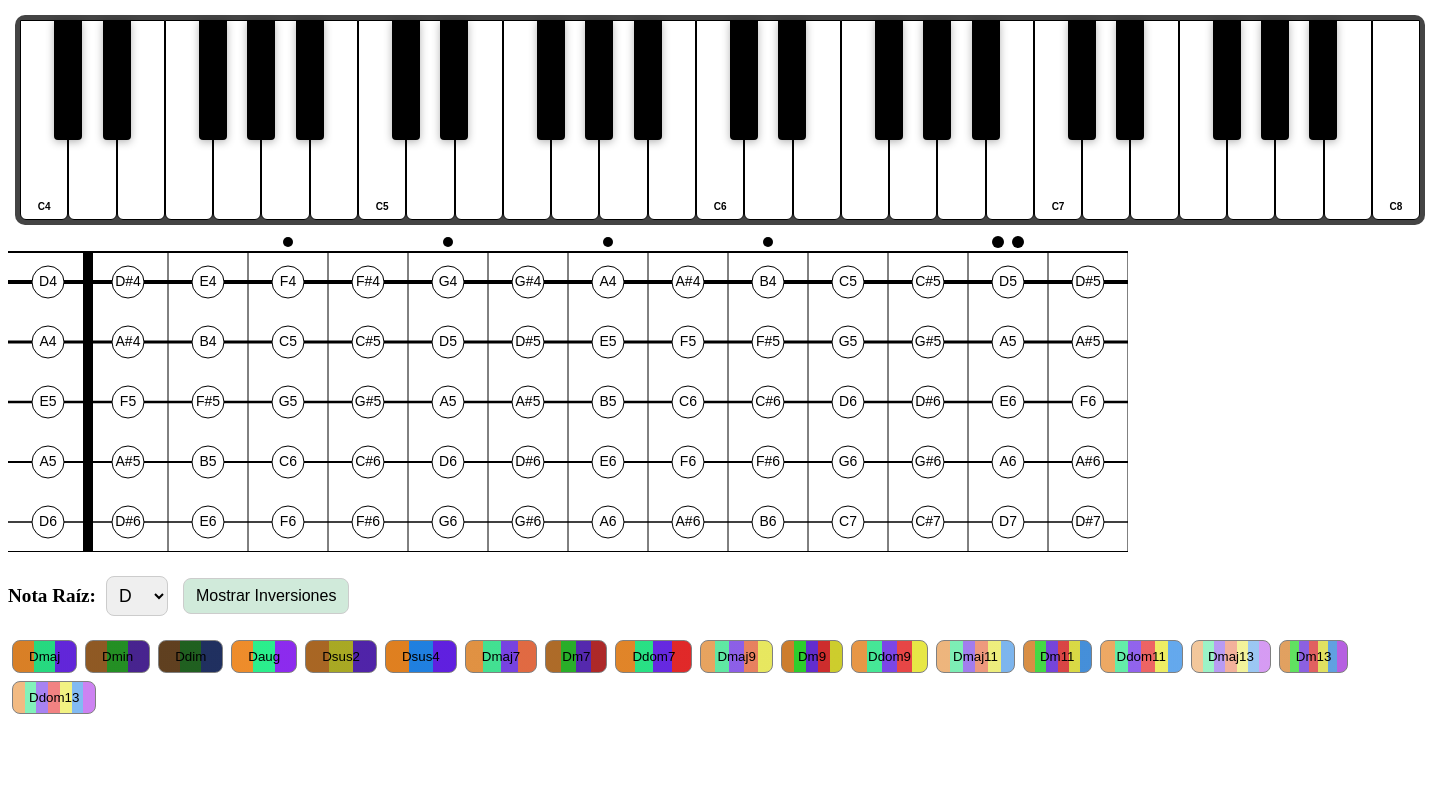
it: App Integration Tests › Chord Selection and Interaction › displays the selected chord name and applies the selected class to the button on click
Click the button "Dmaj" at point(45, 656), box [12,640,77,673]
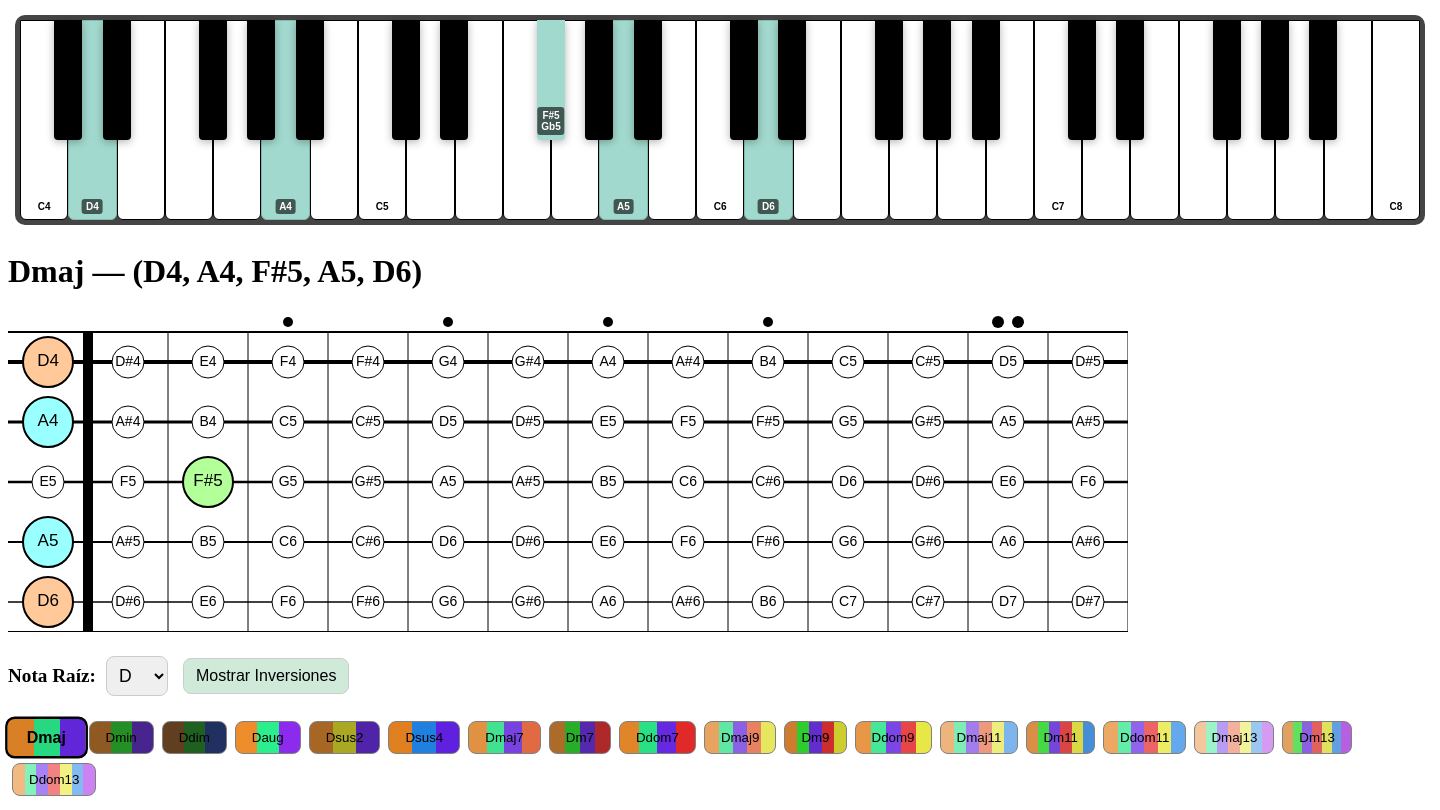
Check: the heading "Dmaj — (D4, A4, F#5, A5, D6)" is shown, box [8,253,422,289]
